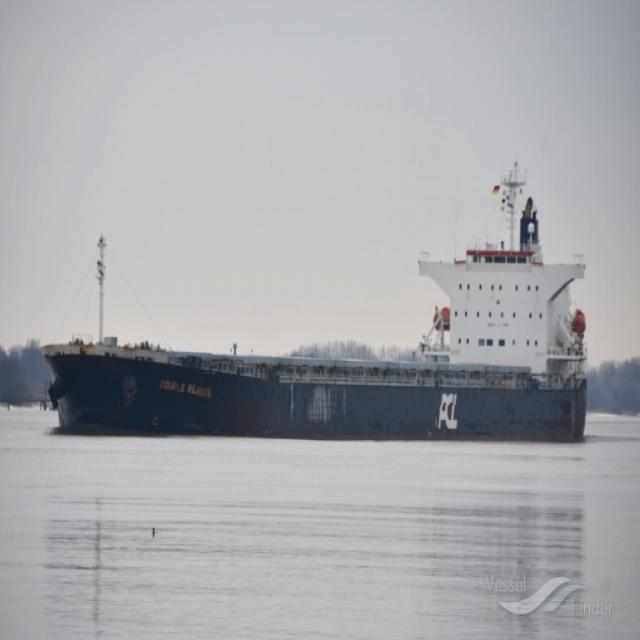OCR: (147, 369, 215, 401), (434, 382, 466, 437)
